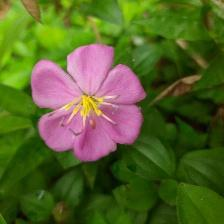malabar melastome: (31, 41, 149, 165)
